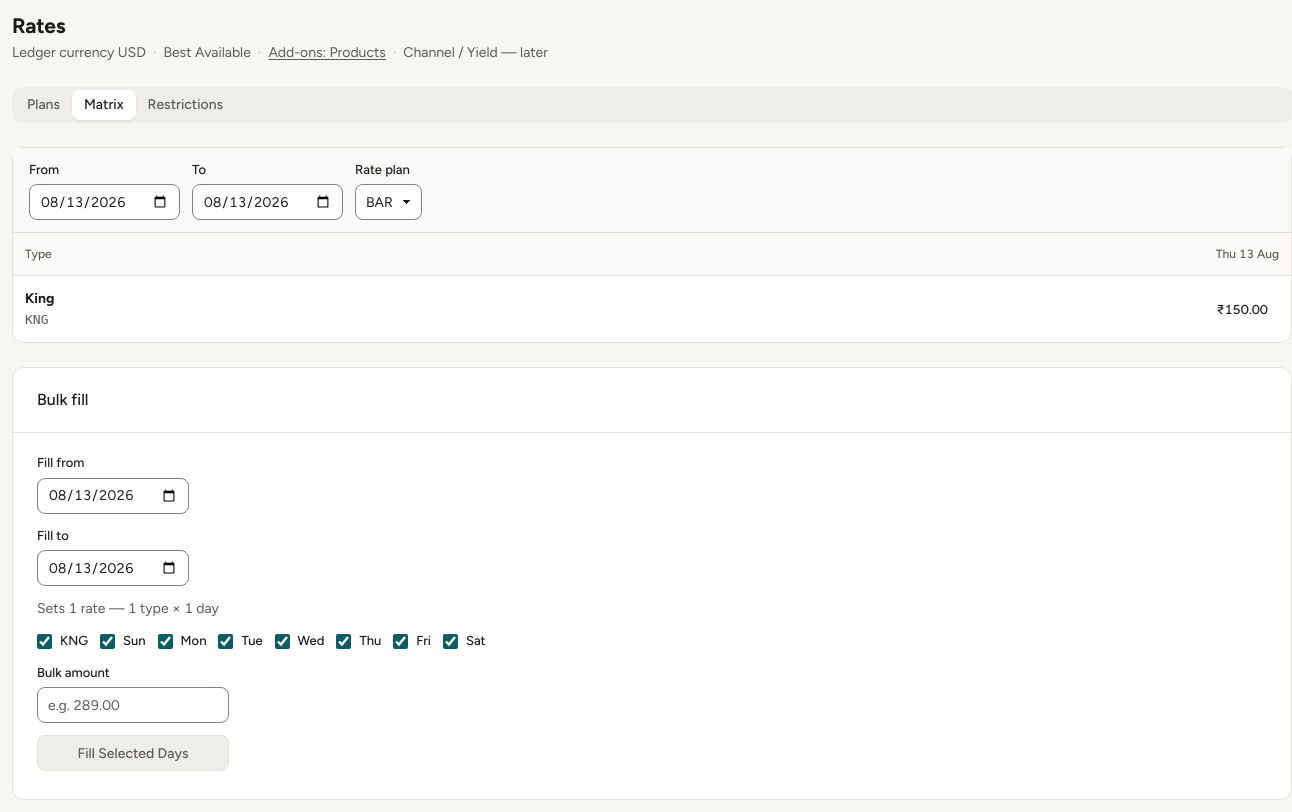
Test: RatesScreen › selects the whole rate when a cell opens
Click the button named "Edit rate for KNG on 13 Aug 2026" at point(1242, 310), box [1206,292,1279,328]
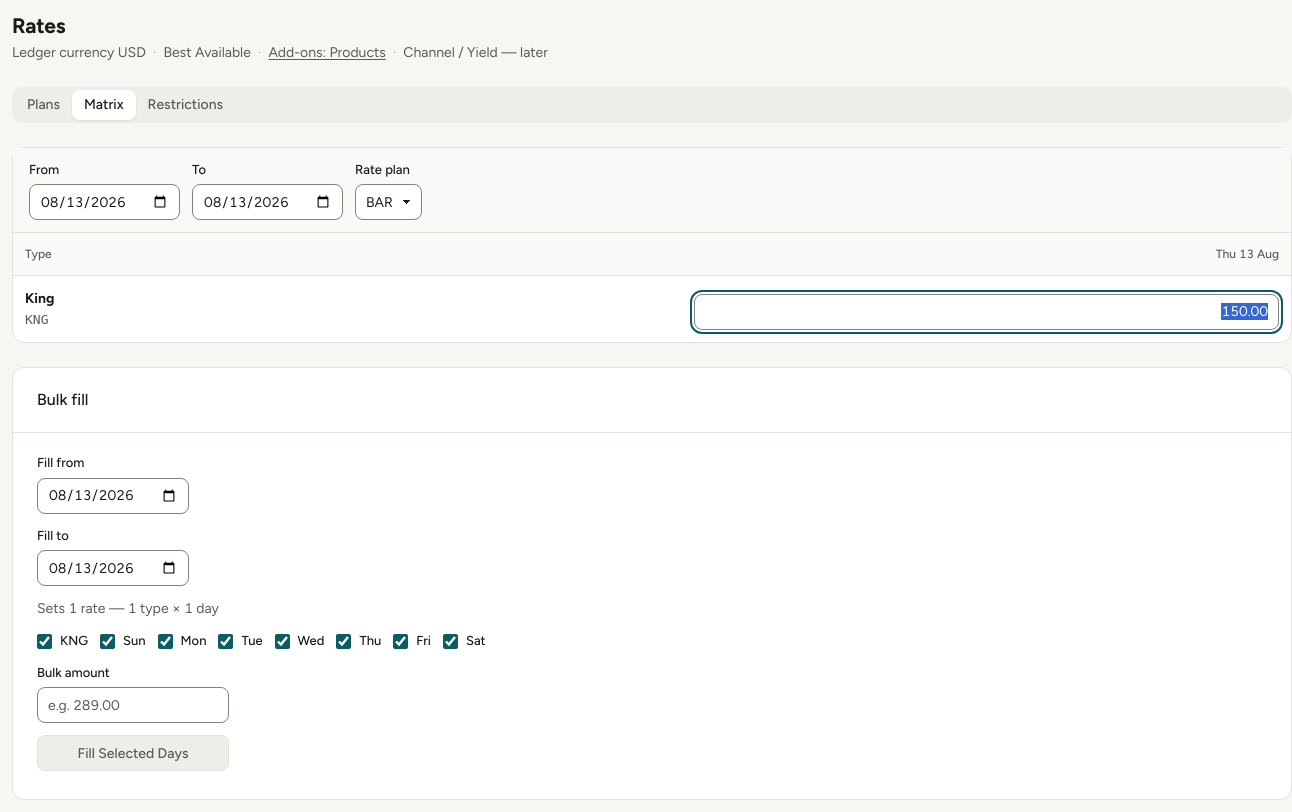
Check: the field named "Rate for KNG on 13 Aug 2026" holds "150.00", box [694,294,1279,330]
